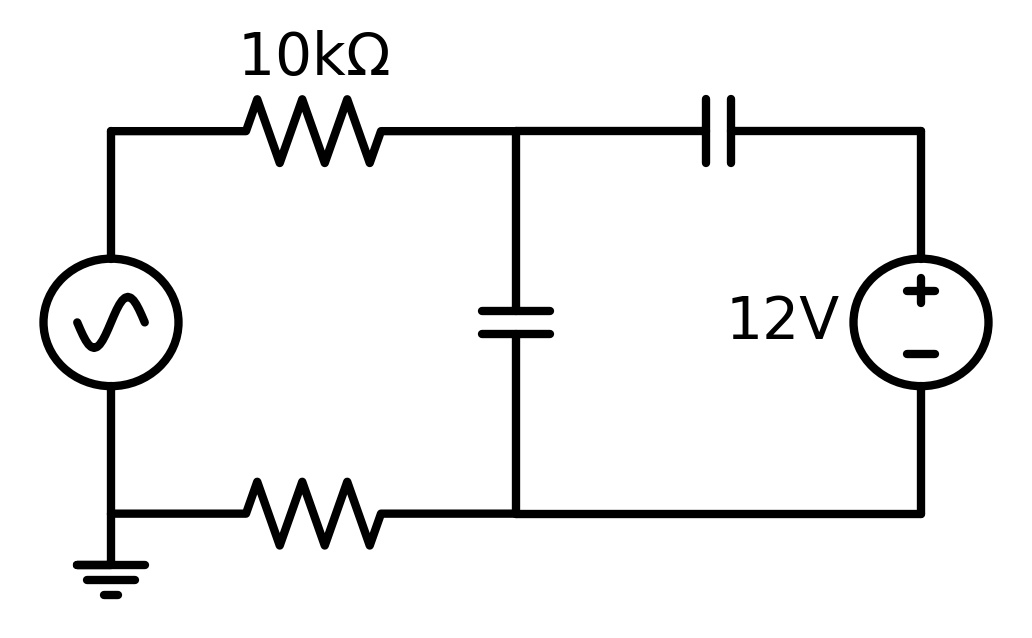capacitor: (444, 292, 577, 356), (688, 77, 749, 195)
ground: (61, 546, 155, 606)
resistor: (237, 90, 393, 182), (234, 475, 385, 558)
sourceac: (36, 250, 196, 397)
sourcedc: (845, 256, 999, 404)
